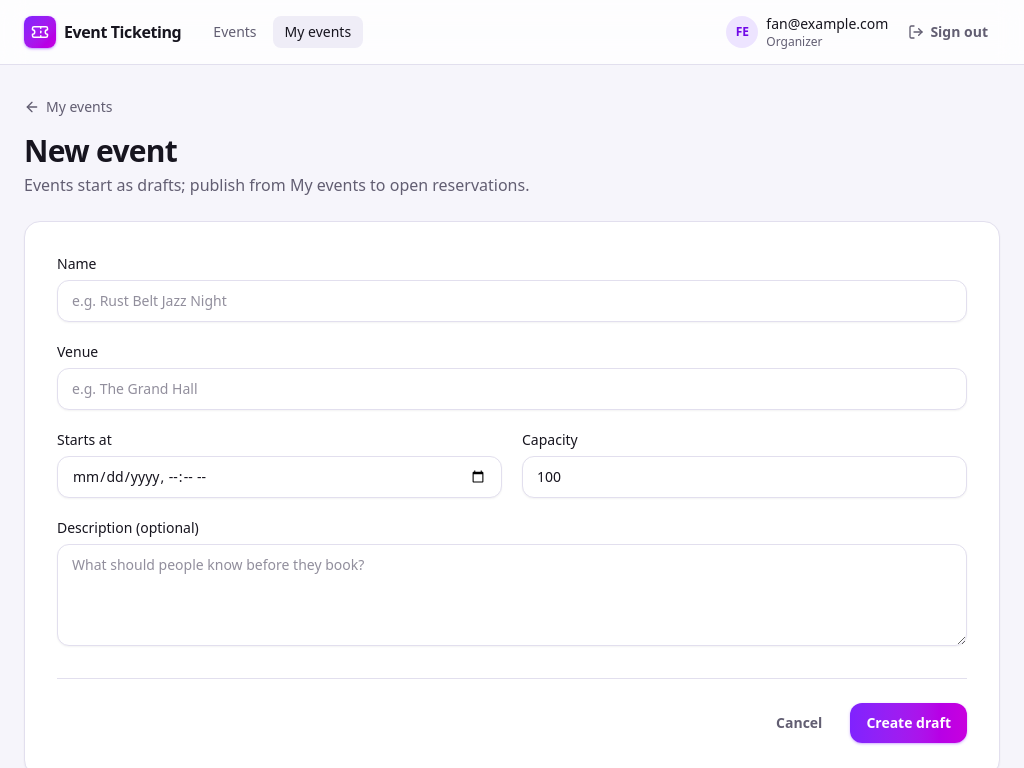
Test: CreateEventPage › shows validation errors from the API next to their fields
Type "Poetry Slam" into the field labelled "Name" at coordinates (512, 301), box [57,280,967,322]
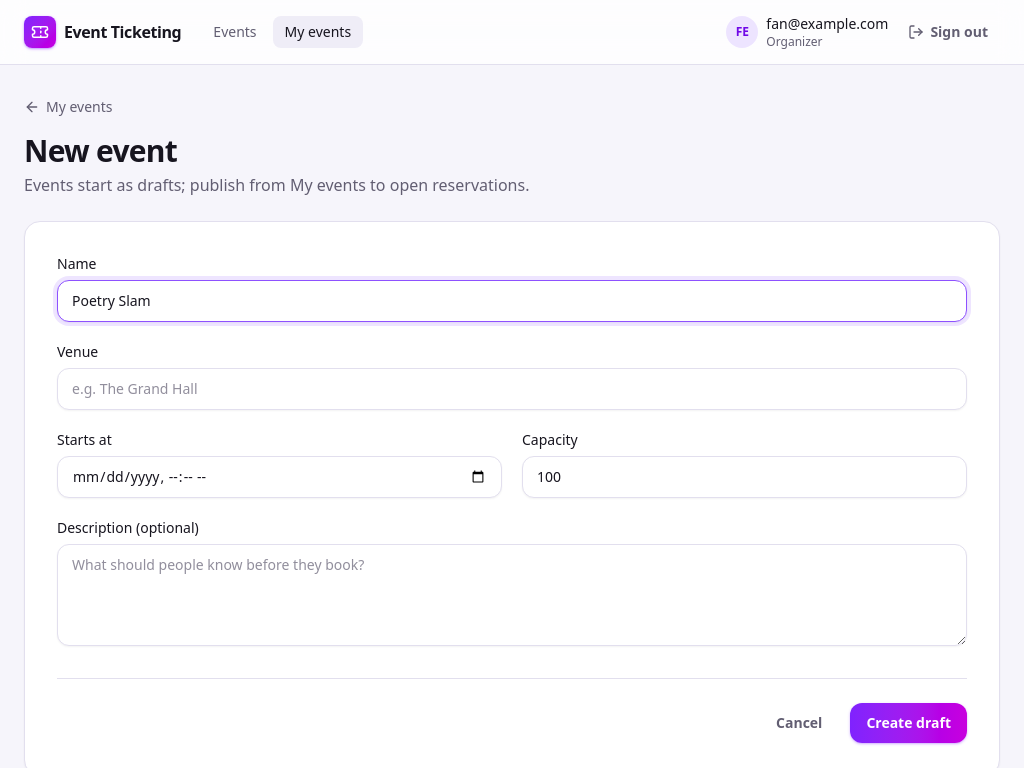
Type "Library" into the field labelled "Venue" at coordinates (512, 389), box [57,368,967,410]
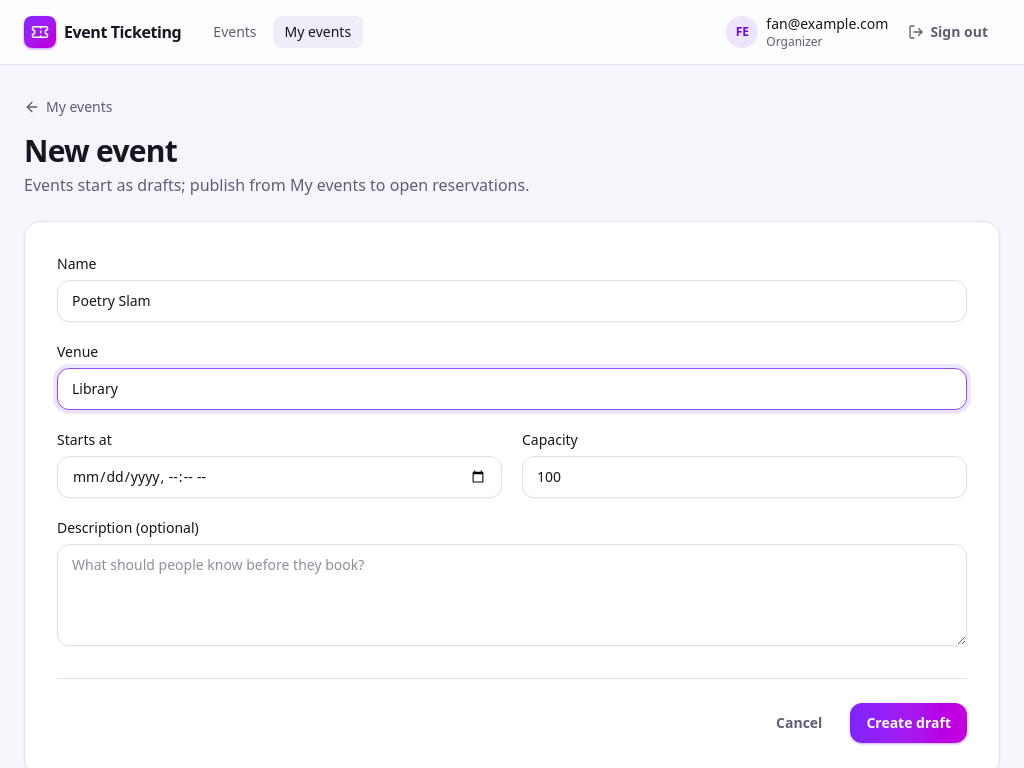
Type "2020-05-01T19:00" into the field labelled "Starts at" at coordinates (280, 477), box [57,456,502,498]
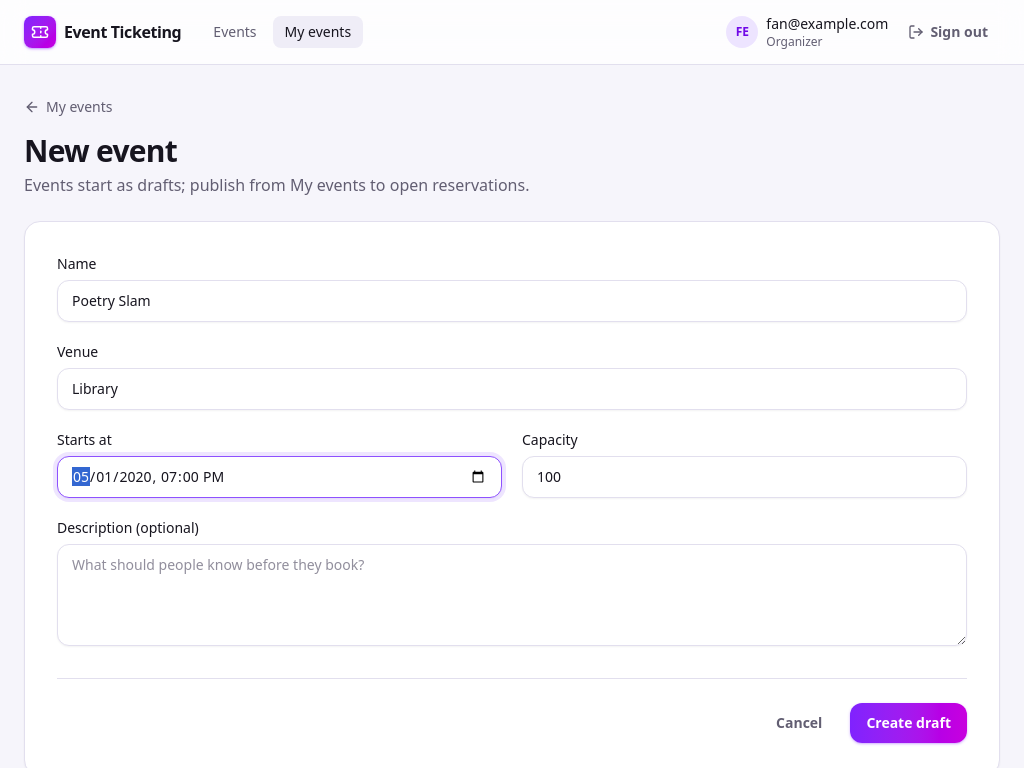
Click the button "Create draft" at coordinates (909, 723), box [850,703,967,743]
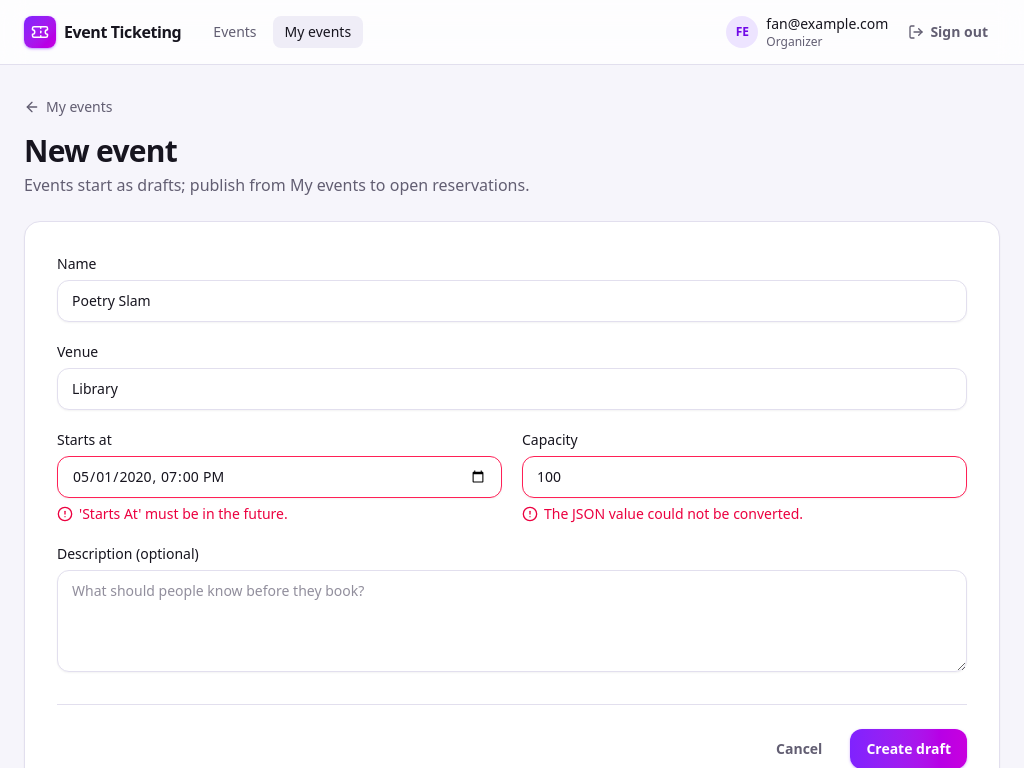
Now the text "'Starts At' must be in the future." is shown, box [57,504,288,523]
Now the text "The JSON value could not be converted." is shown, box [522,504,803,523]
